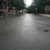zebra: (3, 1, 40, 33)
